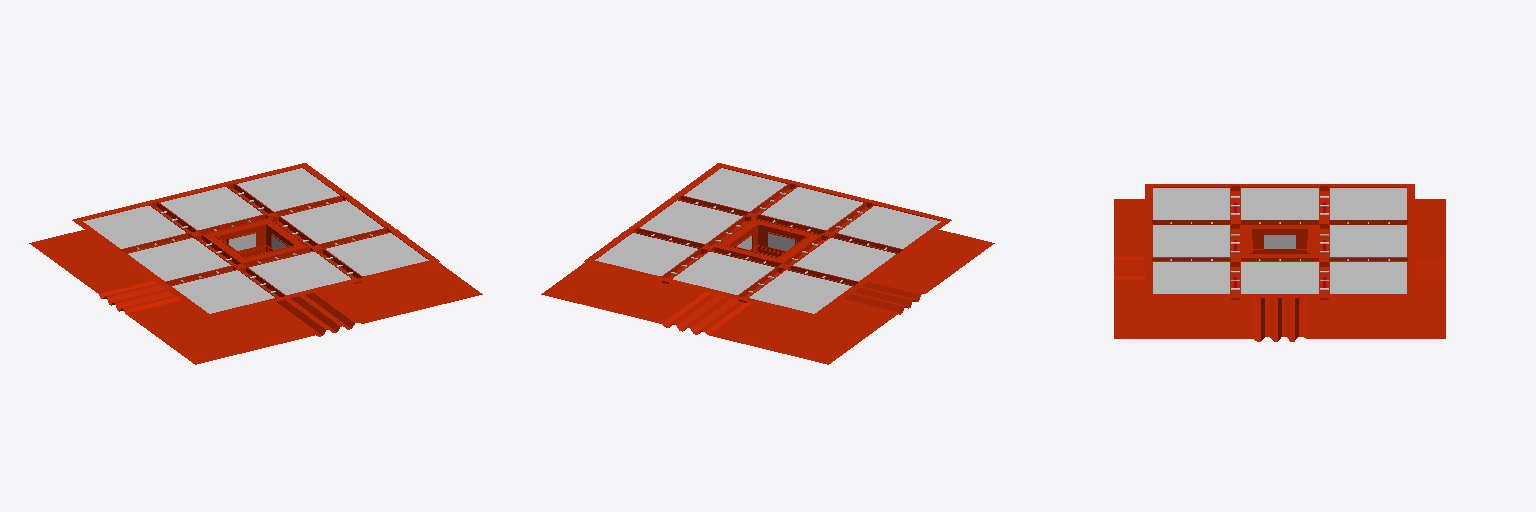
The model's file is OneWall_high.obj.
3 views of the same model, side by side, from view 1: azimuth 30°, elevation 25°; view 2: azimuth 150°, elevation 25°; view 3: azimuth 270°, elevation 25° (orthographic).
Parts seen in each view (by area): view 1: Wall_High_Cube.003, PanelsLights_Cube.001; view 2: Wall_High_Cube.003, PanelsLights_Cube.001; view 3: Wall_High_Cube.003, PanelsLights_Cube.001.
Part boxes in pixels (x1,y1,x2,y2): Wall_High_Cube.003: (29,163,482,364); PanelsLights_Cube.001: (83,168,428,313); Wall_High_Cube.003: (541,163,994,364); PanelsLights_Cube.001: (595,168,940,313); Wall_High_Cube.003: (1114,184,1445,341); PanelsLights_Cube.001: (1153,188,1406,293).
Bounding box in the file's own units: 2.46 × 0.25 × 2.46.